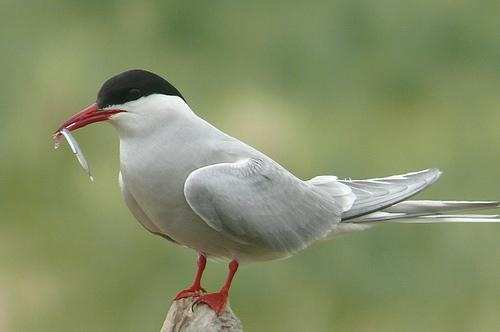bird: (48, 65, 489, 313)
